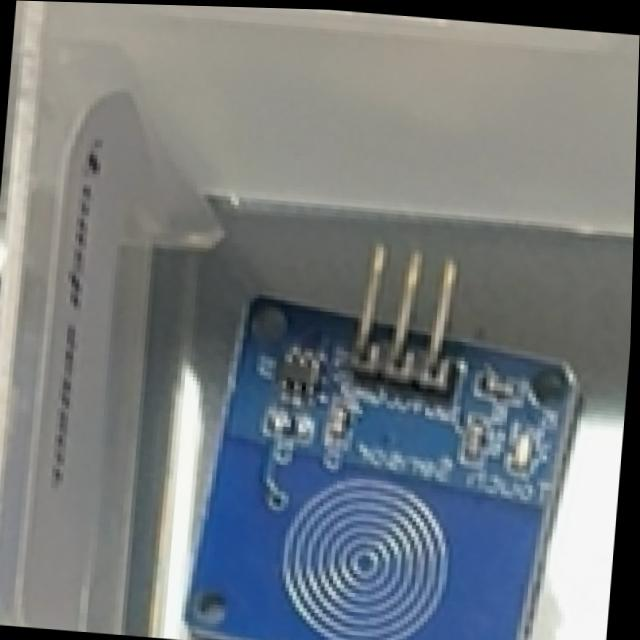Touch Sensor: (183, 222, 592, 640)
